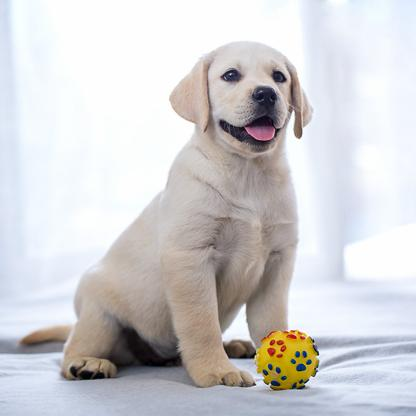dog: (15, 39, 317, 387)
